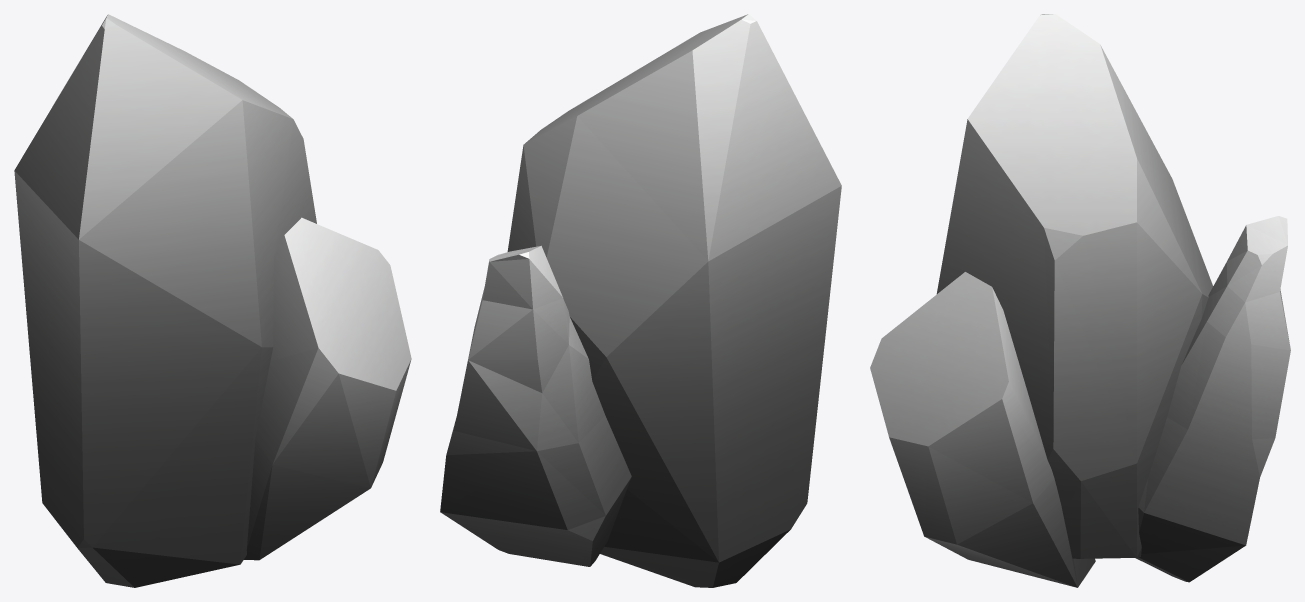
The model's file is CrystalShardCluster_B.fbx.
3 views of the same model, side by side, from view 1: azimuth 30°, elevation 25°; view 2: azimuth 150°, elevation 25°; view 3: azimuth 270°, elevation 25° (orthographic). The views are drawn at different scales.
Parts seen in each view (by area): view 1: CrystalShardCluster_B; view 2: CrystalShardCluster_B; view 3: CrystalShardCluster_B.
Boxes of the visible parts, x1,y1,x2,y2 form: CrystalShardCluster_B: (14, 14, 411, 587); CrystalShardCluster_B: (440, 14, 841, 587); CrystalShardCluster_B: (870, 14, 1290, 587).
Size of the model in its own units: 150 by 254 by 183.
1 material, 1 textured.
